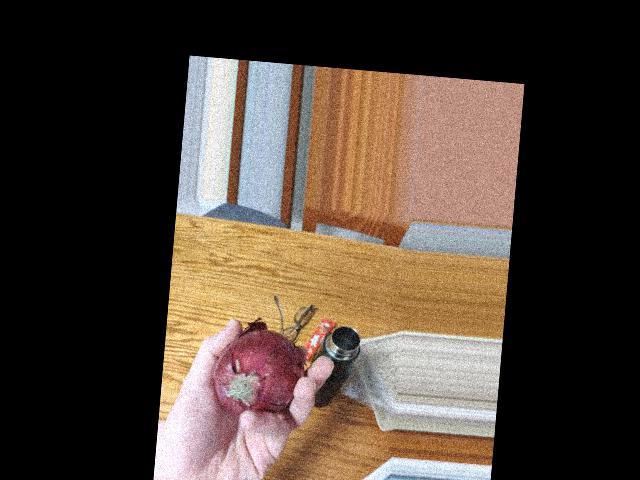onion: (208, 334, 305, 422)
